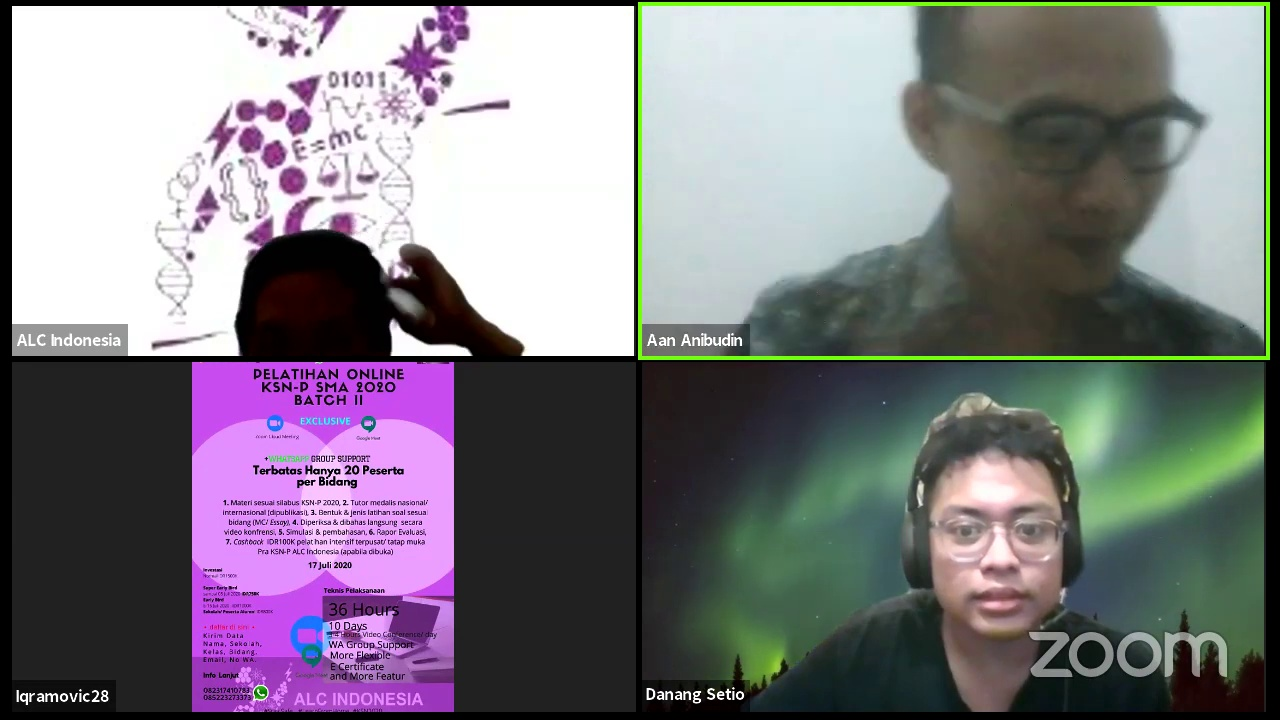Distracted: (893, 19, 1202, 288)
Not Distracted: (893, 428, 1093, 655), (231, 250, 399, 355)
